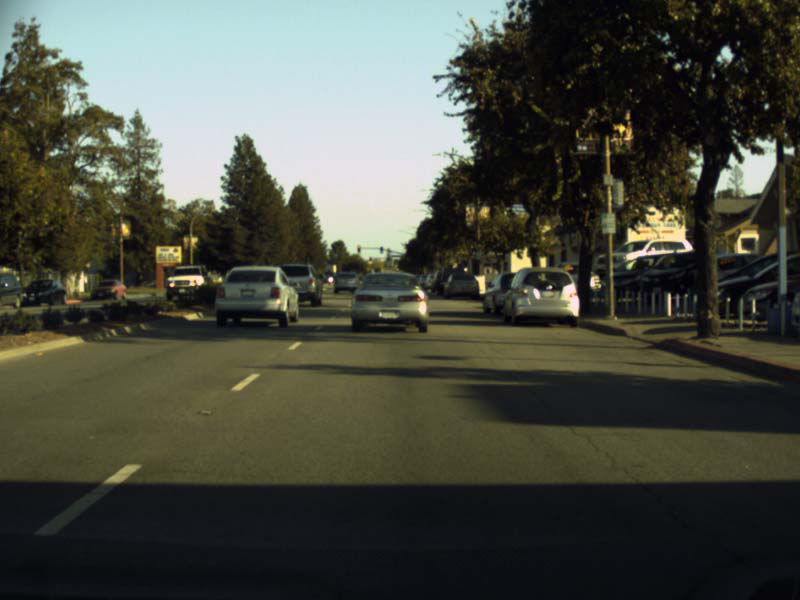Red: (357, 244, 360, 252)
